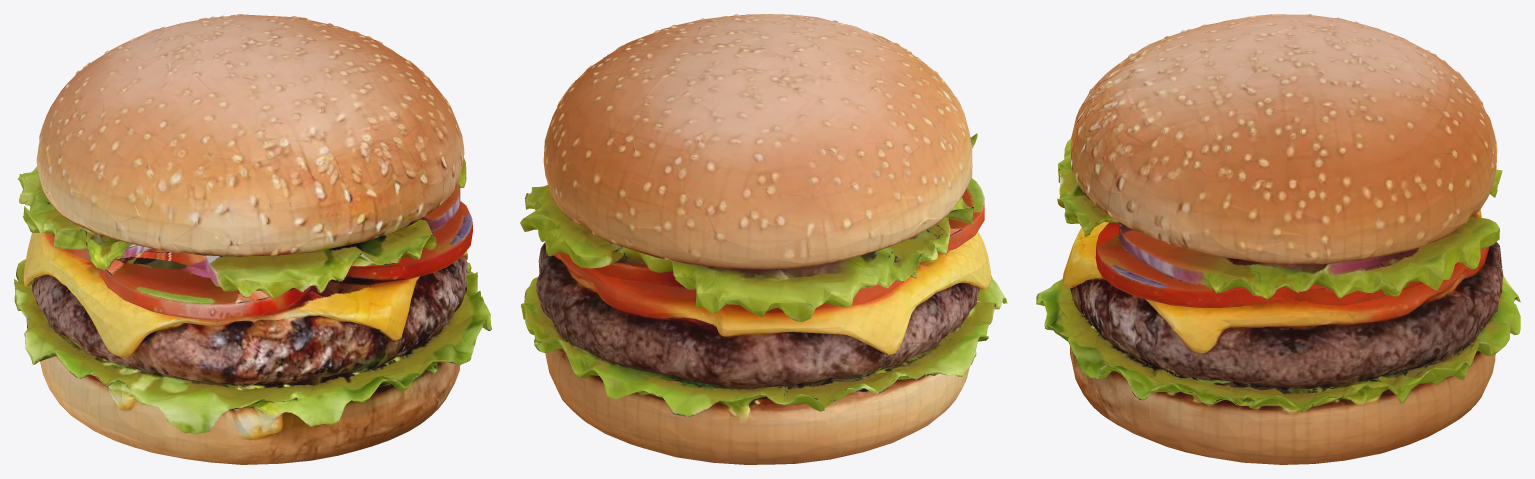
Rendered from burger-hero.glb.
The picture shows the model from 3 angles, left to right: view 1: azimuth 30°, elevation 25°; view 2: azimuth 150°, elevation 25°; view 3: azimuth 270°, elevation 25°; orthographic projection.
Visible parts, largest first — view 1: model; view 2: model; view 3: model.
Part boxes in pixels (box(x1,y1,x2,y2)): model: box(14, 14, 491, 464); model: box(520, 14, 1007, 464); model: box(1036, 14, 1520, 464).
Size of the model in its own units: 1.9 by 1.48 by 1.9.
Materials: 1 (1 with a texture image).
